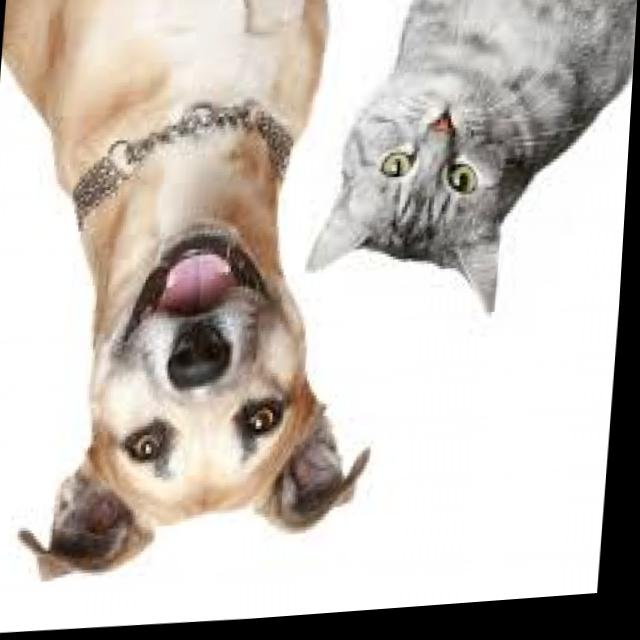Cat: (329, 0, 634, 319)
Dog: (11, 0, 343, 577)
